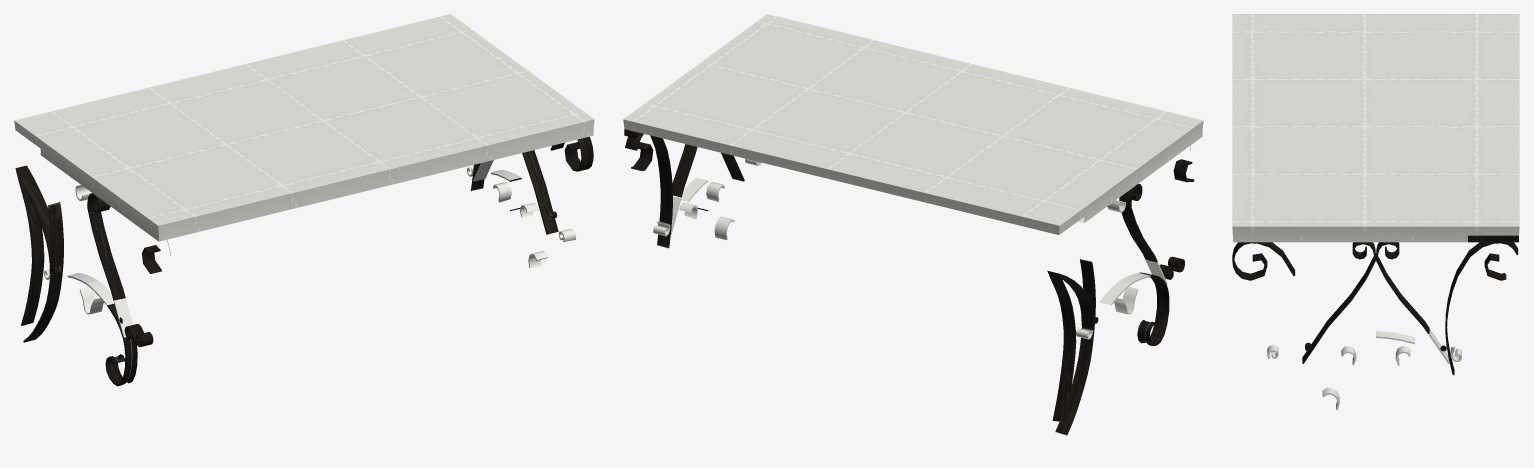
File: Table.fbx
The picture shows the model from 3 angles, left to right: view 1: azimuth 30°, elevation 25°; view 2: azimuth 150°, elevation 25°; view 3: azimuth 270°, elevation 25°; orthographic projection.
Parts seen in each view (by area): view 1: Table; view 2: Table; view 3: Table.
Part boxes in pixels (x1,y1,x2,y2): Table: [14, 14, 594, 386]; Table: [623, 14, 1203, 435]; Table: [1232, 14, 1519, 410].
Size of the model in its own units: 141 by 70.33 by 80.34.
